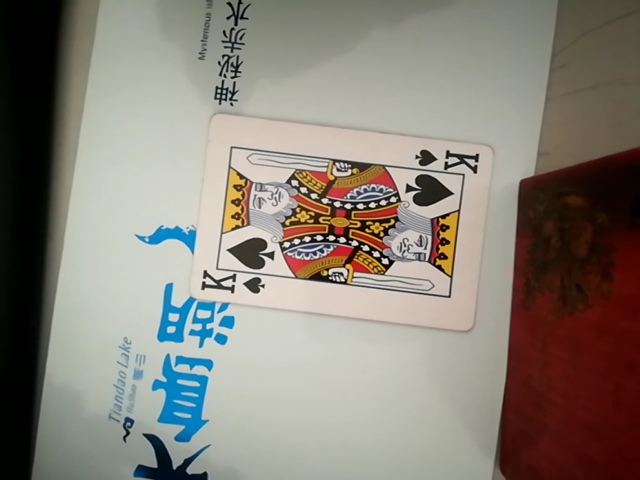ht k: (201, 108, 494, 343)
